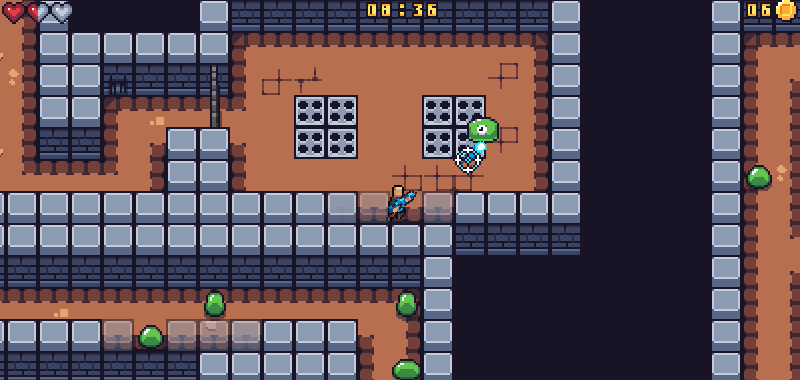enemy_slug: (742, 159, 776, 194), (197, 285, 228, 320), (135, 322, 168, 350), (392, 287, 418, 322), (388, 354, 423, 379)
enemy_slug_big: (462, 111, 503, 146)
trap_door: (199, 55, 229, 136)
trap_off: (293, 94, 359, 159), (420, 93, 486, 158)
